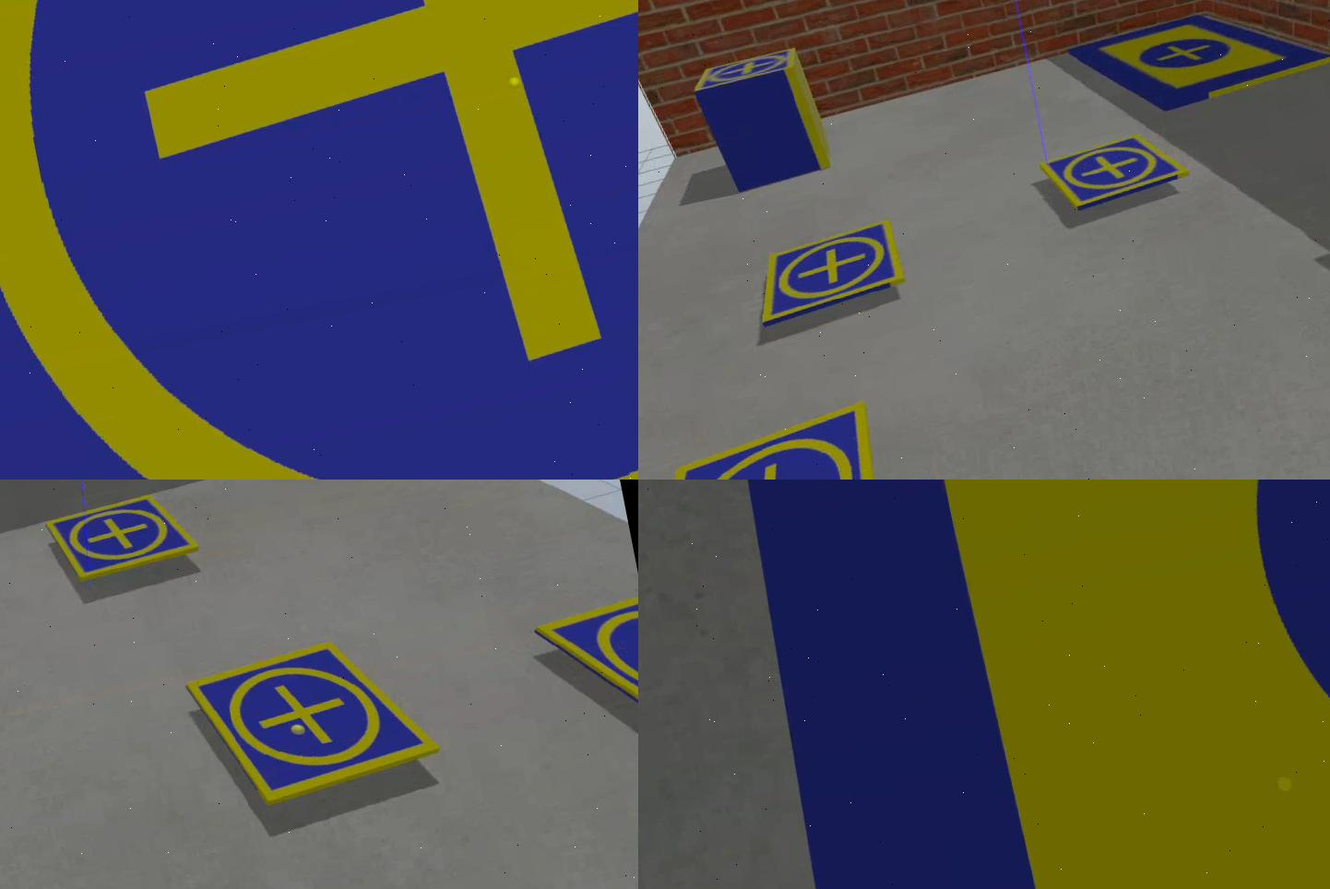large_base: (695, 480, 1330, 889), (1060, 1, 1330, 126)
small_base: (1, 1, 639, 480), (179, 622, 449, 821), (639, 402, 899, 480), (749, 219, 913, 326), (528, 593, 639, 745), (44, 487, 204, 588), (1039, 128, 1200, 220), (692, 46, 801, 96)
